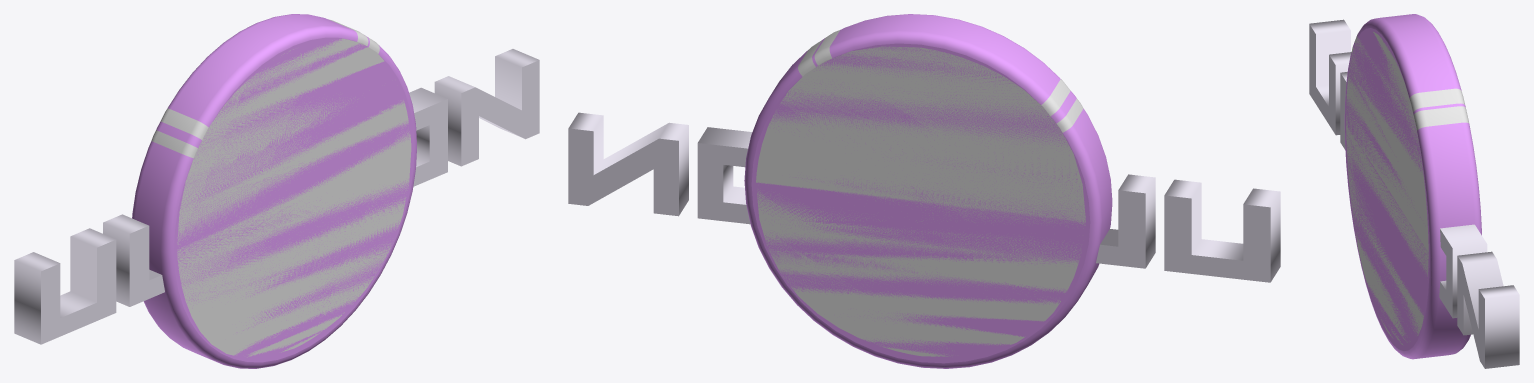
The picture shows the model from 3 angles, left to right: view 1: azimuth 30°, elevation 25°; view 2: azimuth 150°, elevation 25°; view 3: azimuth 270°, elevation 25°; orthographic projection. The views are drawn at different scales.
Parts seen in each view (by area): view 1: Curve.001, Curve.002, Curve; view 2: Curve.002, Curve.001, Curve; view 3: Curve.001, Curve.002, Curve.
Part boxes in pixels (box(x1,y1,x2,y2)): Curve.001: box(132, 14, 416, 368); Curve.002: box(151, 19, 411, 357); Curve: box(14, 49, 539, 344); Curve.002: box(756, 30, 1085, 356); Curve.001: box(744, 14, 1112, 368); Curve: box(568, 112, 1280, 282); Curve.001: box(1344, 14, 1481, 359); Curve.002: box(1346, 32, 1469, 345); Curve: box(1309, 19, 1519, 368).
Bounding box in the file's own units: 0.0732 × 0.038 × 0.0233.
